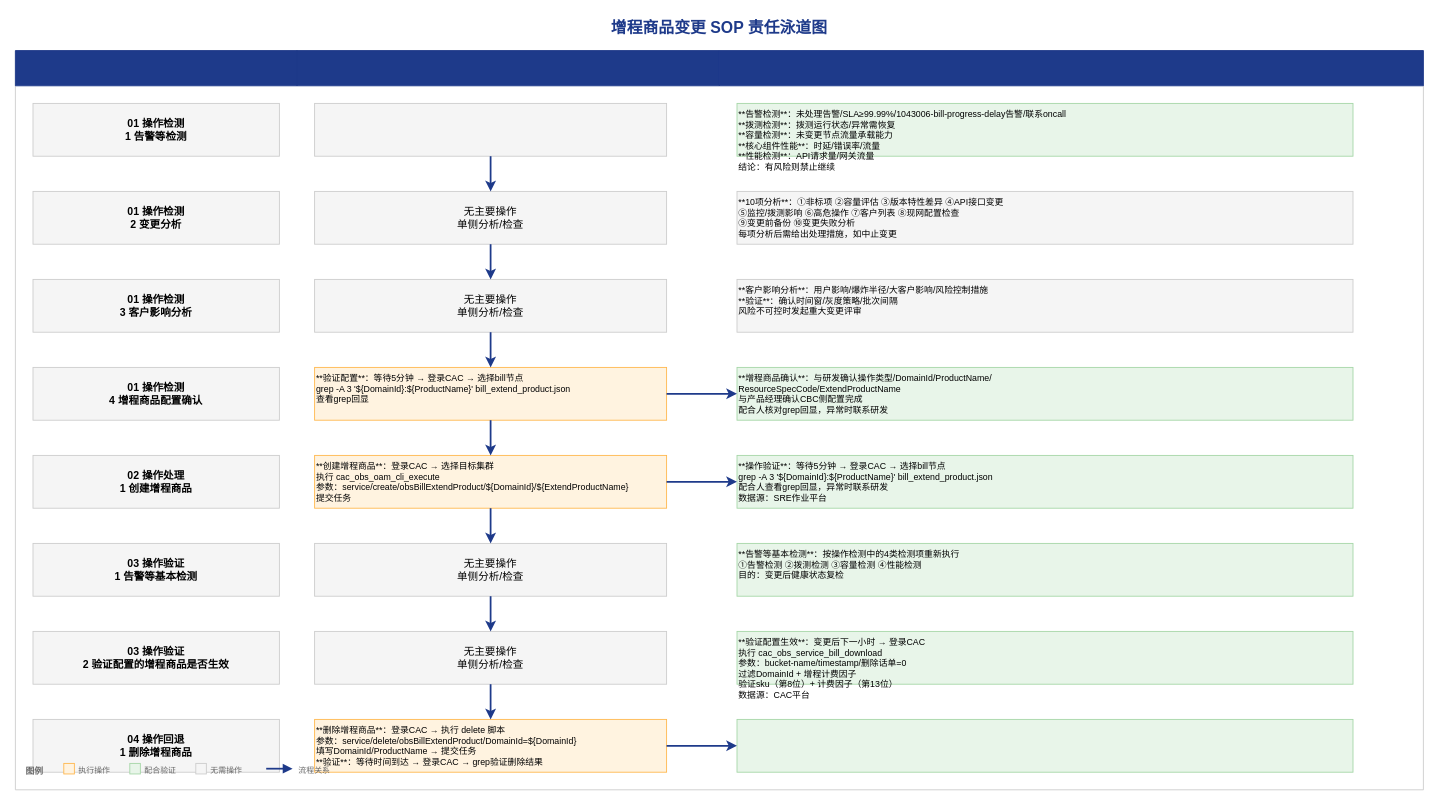
Image size: 1440x805. Some labels were removed from this diagram. Each missing label, with the centre of its shape:
"**回退验证**：配合人查看删除后grep回显 如仍能查到记录，联系研发确认 必要时复查配置、告警、业务影响" belongs at (1044,745).
"SOP步骤" belongs at (156,68).
"执行人" belongs at (507,68).
"无主要操作 等待配合人检查完成" belongs at (490,129).
"配合人" belongs at (1071,68).
